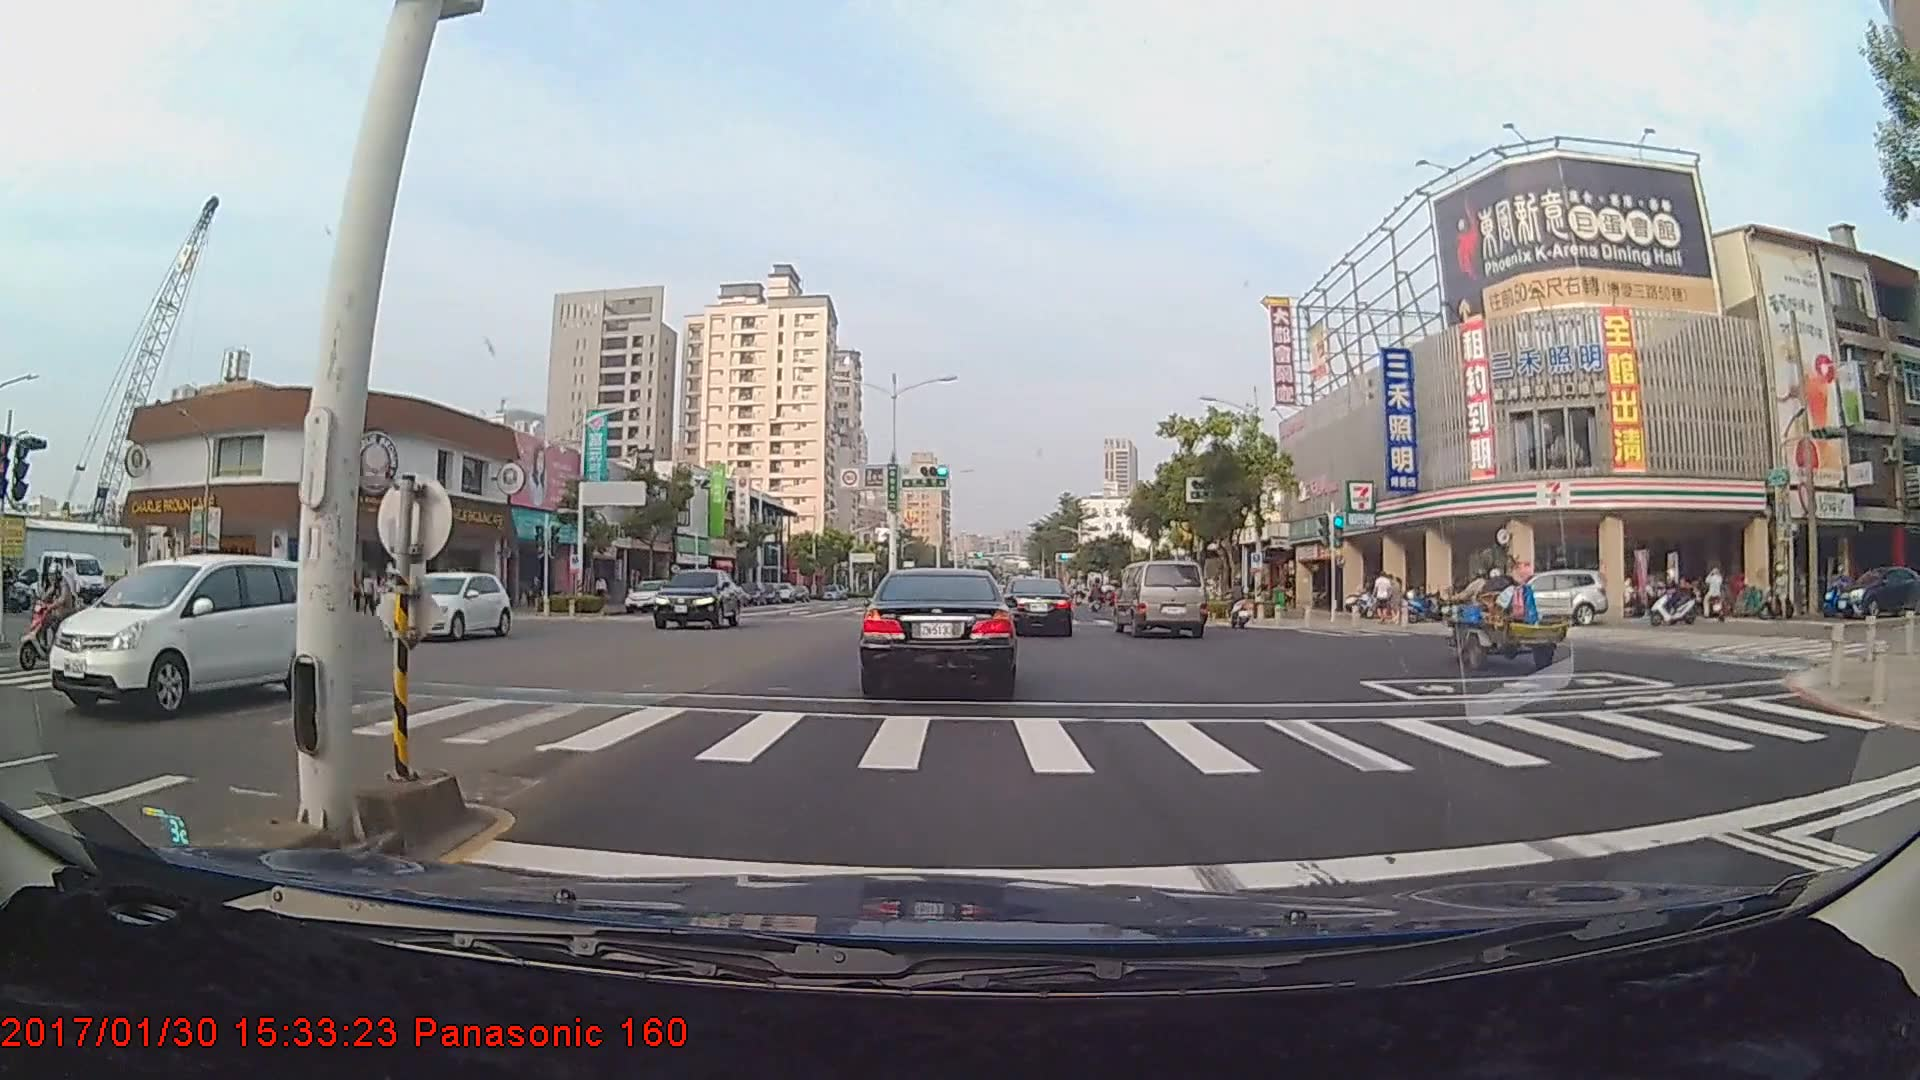pedestrian: (1371, 570, 1391, 625)
rider: (22, 555, 94, 671), (1644, 566, 1709, 634), (1216, 580, 1255, 634)
vehicle: (52, 552, 319, 710), (859, 563, 1016, 689), (377, 570, 507, 645), (1454, 573, 1602, 631), (1115, 560, 1206, 639), (651, 567, 743, 631), (998, 577, 1074, 638), (622, 577, 672, 612)
